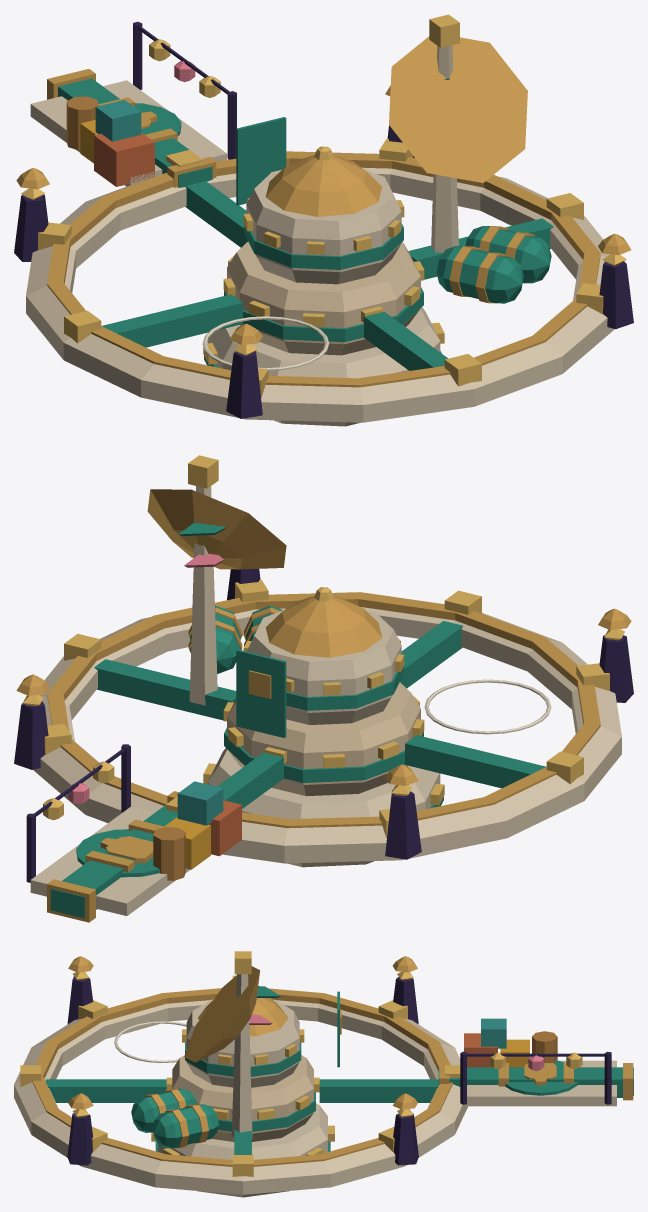
The model's file is station_early.gltf.
The picture shows the model from 3 angles, top to bottom: view 1: azimuth 30°, elevation 25°; view 2: azimuth 150°, elevation 25°; view 3: azimuth 270°, elevation 25°; orthographic projection. The views are drawn at different scales.
Visible parts, largest first — view 1: spoked_ring, tiers, mast, lantern_posts, tank, arm, banner, deck, crate_a, crate_c, barrel, greenhouse_plot (+3 smaller); view 2: spoked_ring, tiers, mast, lantern_posts, arm, deck, banner, tank, crate_c, barrel, crate_a, crate_b (+5 smaller); view 3: spoked_ring, tiers, mast, lantern_posts, tank, deck, arm, mark, crate_c, crate_a, barrel, crate_b (+5 smaller).
Part boxes in pixels (x1,y1,x2,y2): spoked_ring: (26, 139, 614, 422); tiers: (203, 146, 444, 426); mast: (389, 14, 527, 252); lantern_posts: (14, 86, 633, 418); tank: (436, 226, 551, 303); arm: (47, 69, 216, 187); banner: (236, 117, 286, 205); deck: (30, 80, 227, 186); crate_a: (94, 132, 154, 186); crate_c: (95, 100, 141, 141); barrel: (66, 96, 98, 150); greenhouse_plot: (202, 316, 329, 370); spoked_ring: (33, 579, 621, 863); tiers: (203, 587, 444, 867); mast: (147, 455, 286, 705); lantern_posts: (14, 569, 633, 859); arm: (47, 791, 178, 922); deck: (30, 806, 189, 915); banner: (236, 649, 286, 737); tank: (188, 605, 282, 673); crate_c: (177, 781, 223, 825); barrel: (153, 827, 185, 880); crate_a: (209, 800, 241, 856); crate_b: (163, 817, 210, 869); spoked_ring: (14, 975, 467, 1194); tiers: (151, 998, 334, 1197); mast: (184, 951, 260, 1138); lantern_posts: (67, 956, 418, 1165); tank: (131, 1089, 218, 1148); deck: (464, 1060, 622, 1106); arm: (438, 1063, 633, 1100); mark: (505, 1060, 577, 1095); crate_c: (481, 1018, 506, 1048); crate_a: (464, 1033, 497, 1067); barrel: (532, 1031, 557, 1063); crate_b: (500, 1039, 529, 1067).
Bounding box in the file's own units: 10.79 × 6.6 × 14.59.
